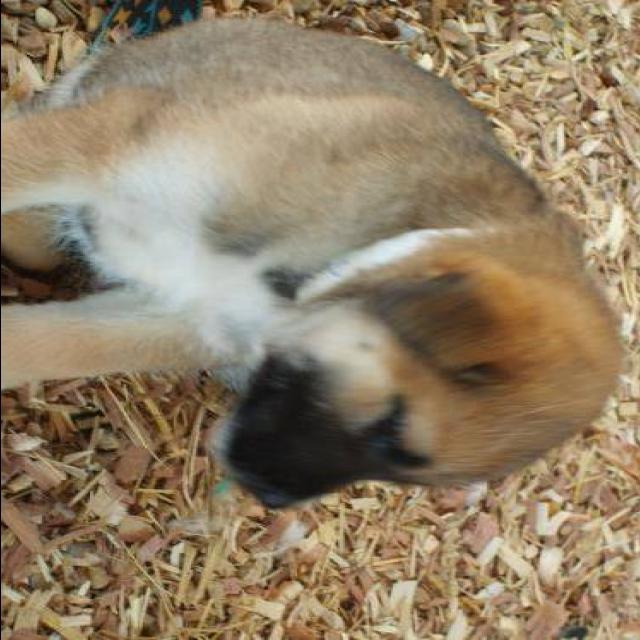dog: (0, 0, 640, 522)
